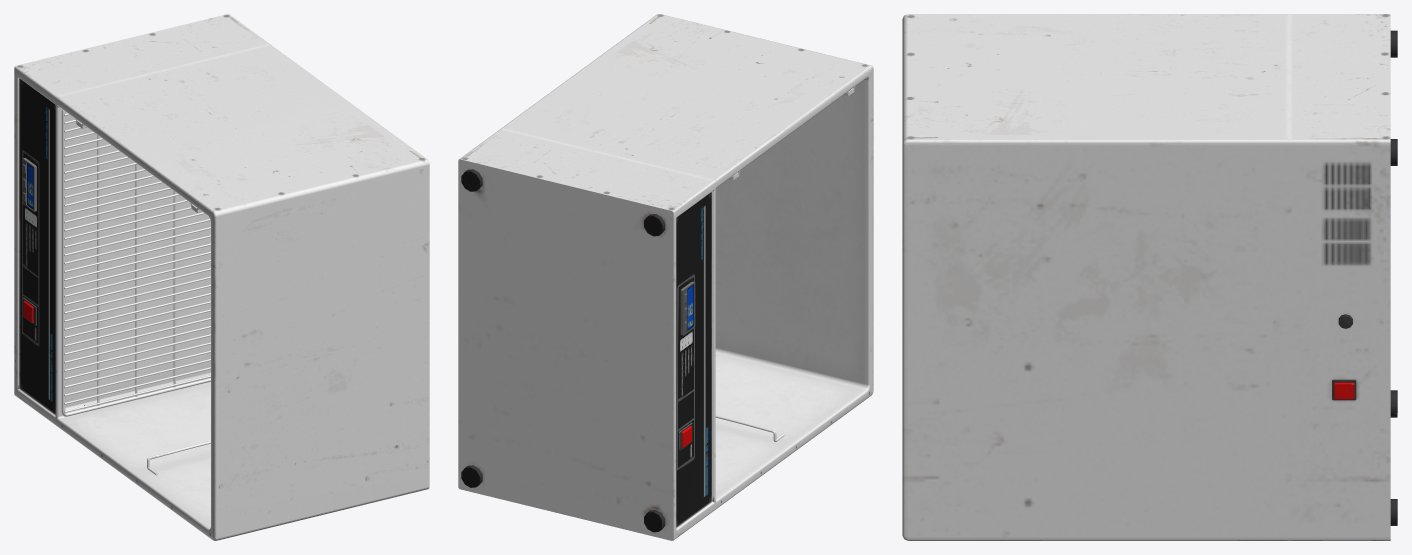
The model's file is SM_Incubator_body_NakedSingularity_main_0_681.obj.
The picture shows the model from 3 angles, left to right: view 1: azimuth 30°, elevation 25°; view 2: azimuth 150°, elevation 25°; view 3: azimuth 270°, elevation 25°; orthographic projection. The views are drawn at different scales.
Visible parts, largest first — view 1: SM_Incubator_body_NakedSingularity_main_0_681; view 2: SM_Incubator_body_NakedSingularity_main_0_681; view 3: SM_Incubator_body_NakedSingularity_main_0_681.
Part boxes in pixels (box(x1,y1,x2,y2)): SM_Incubator_body_NakedSingularity_main_0_681: box(14, 14, 429, 540); SM_Incubator_body_NakedSingularity_main_0_681: box(458, 14, 873, 540); SM_Incubator_body_NakedSingularity_main_0_681: box(902, 14, 1397, 540).
Size of the model in its own units: 33.82 by 48.3 by 54.04.
1 material, 1 textured.
